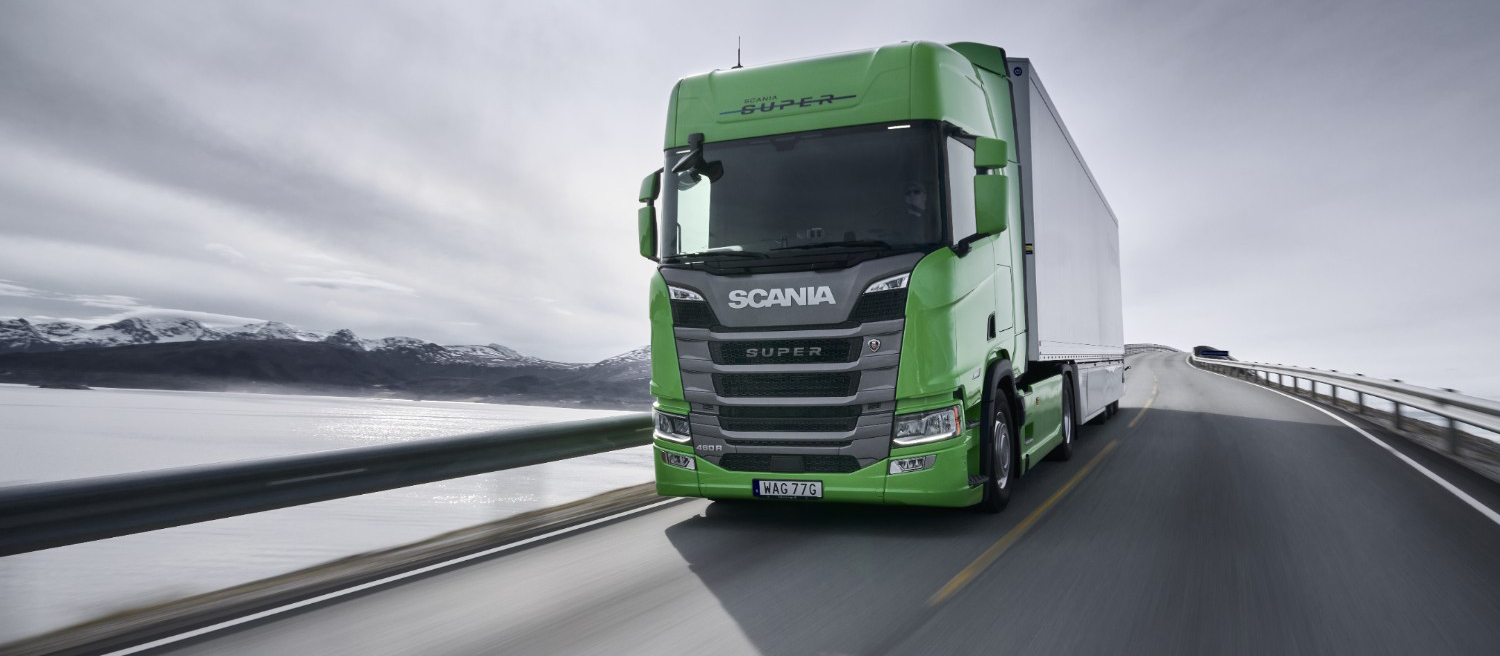truck: (634, 38, 1128, 516)
